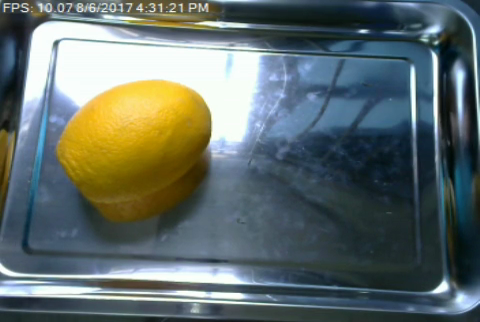Orange: (54, 78, 210, 202)
